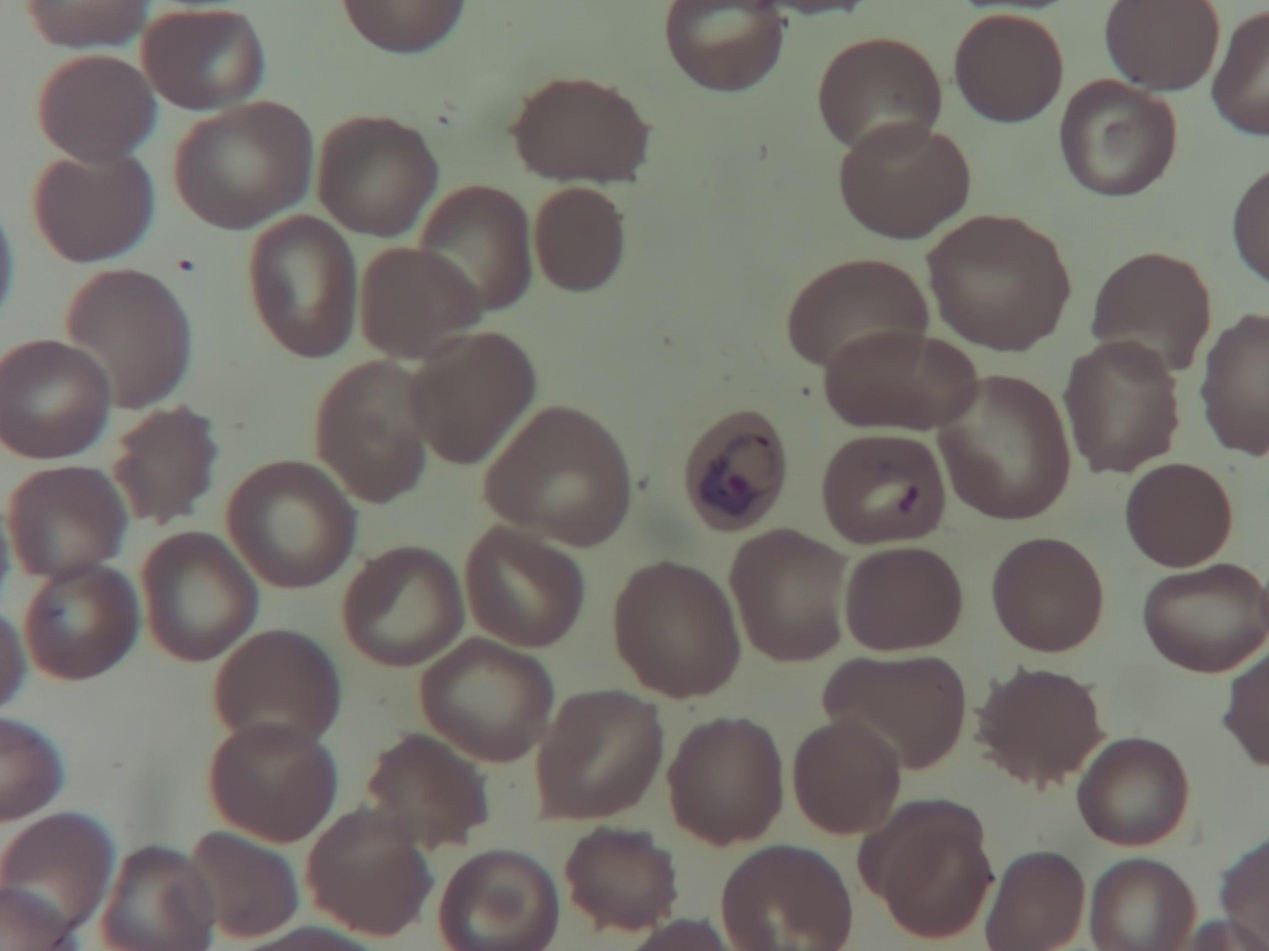Infected: (689, 407, 787, 534)
Uninfected: (938, 368, 1070, 519), (488, 407, 627, 547), (931, 218, 1070, 352), (173, 99, 313, 231), (790, 259, 928, 385), (411, 327, 536, 464), (616, 564, 736, 702), (826, 327, 983, 432), (228, 457, 353, 588), (534, 692, 659, 819), (306, 811, 437, 932), (251, 218, 358, 362), (215, 628, 336, 755), (972, 669, 1099, 790), (840, 122, 969, 241), (73, 279, 190, 410), (142, 532, 259, 661), (347, 546, 467, 671), (420, 186, 539, 311), (320, 115, 438, 241), (730, 530, 843, 661), (215, 726, 339, 845), (429, 640, 557, 755), (1068, 336, 1175, 473), (1096, 256, 1216, 378), (673, 715, 785, 845), (322, 364, 428, 501), (822, 658, 959, 764), (516, 76, 647, 183), (472, 530, 586, 652), (822, 40, 936, 161), (361, 245, 481, 359), (23, 564, 137, 682), (34, 158, 158, 266), (1061, 78, 1176, 192), (1146, 562, 1269, 668), (724, 843, 843, 951), (794, 719, 902, 837), (374, 740, 488, 851), (826, 432, 943, 540), (2, 338, 108, 457), (37, 56, 157, 160), (11, 466, 125, 575), (954, 10, 1065, 119), (997, 544, 1105, 655), (844, 551, 962, 652), (110, 409, 212, 525), (1080, 738, 1184, 851), (571, 824, 679, 932), (144, 17, 259, 117), (105, 845, 213, 951), (187, 831, 295, 932), (863, 802, 975, 898), (666, 1, 778, 97), (443, 854, 552, 951), (1102, 5, 1222, 93), (1082, 856, 1193, 951), (883, 834, 984, 938), (1130, 471, 1229, 569), (986, 856, 1082, 951), (539, 188, 621, 297)
